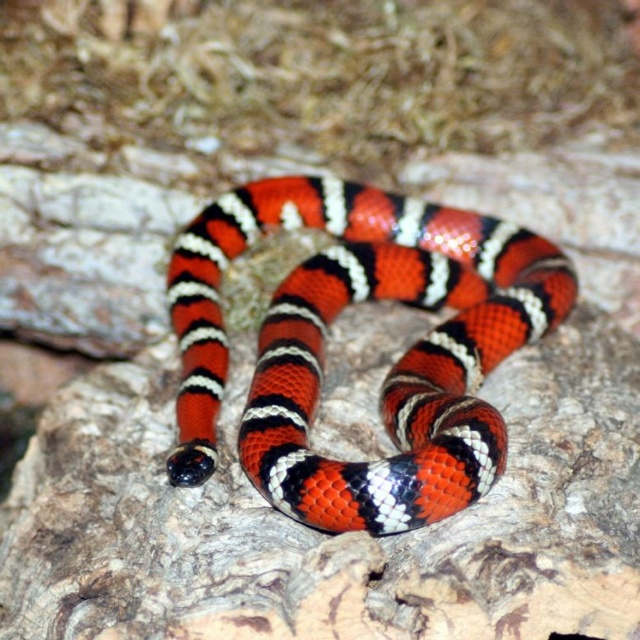Snake: (166, 174, 578, 534)
